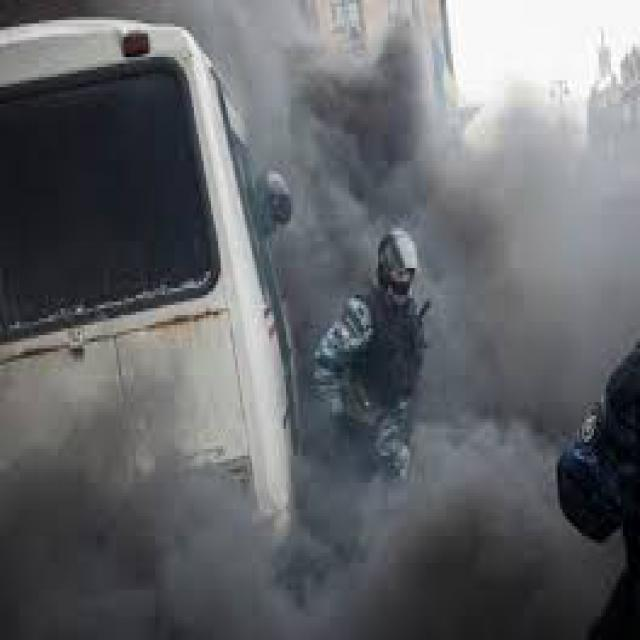Smoke: (0, 350, 313, 640), (448, 58, 630, 398), (326, 404, 578, 640), (243, 0, 443, 282)
